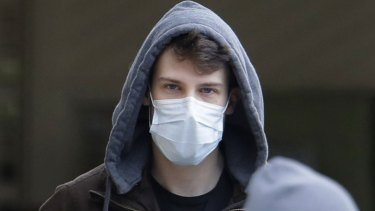mask: (126, 7, 262, 173)
